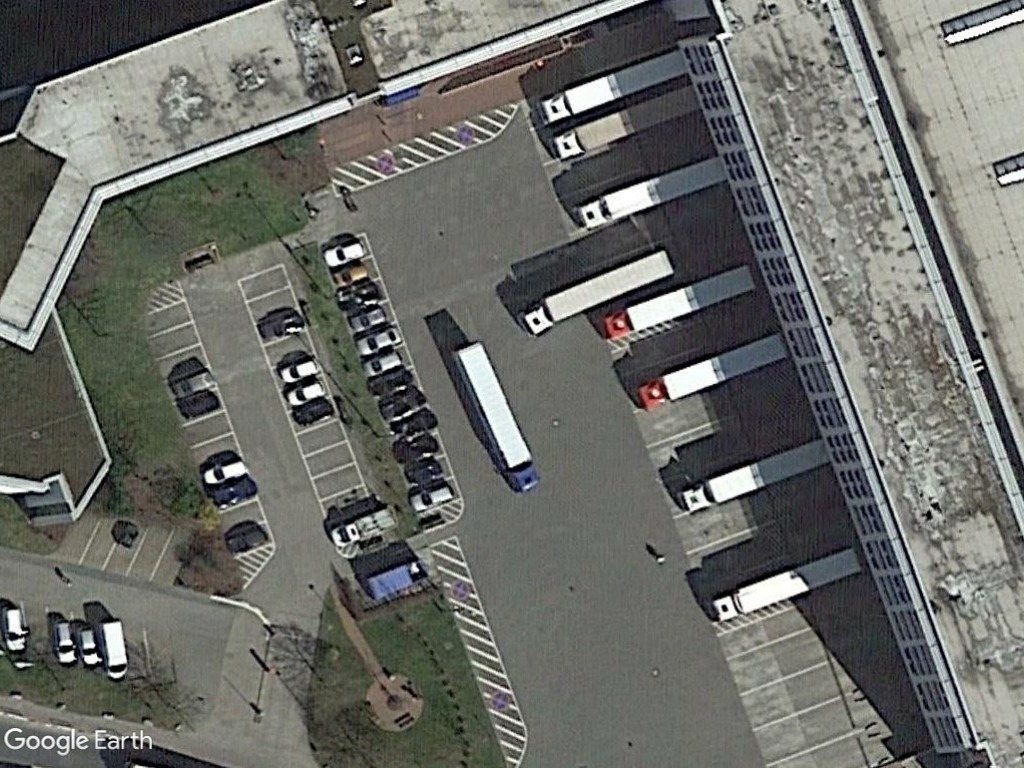car: (313, 226, 377, 270), (319, 253, 378, 293), (268, 354, 332, 385), (274, 378, 336, 409)
longvehicle: (440, 325, 546, 501), (623, 328, 796, 426), (672, 431, 849, 525), (516, 244, 685, 341), (706, 544, 870, 633), (598, 258, 761, 346), (544, 82, 706, 169), (570, 152, 728, 235), (536, 46, 691, 125)
van: (97, 607, 135, 687)
